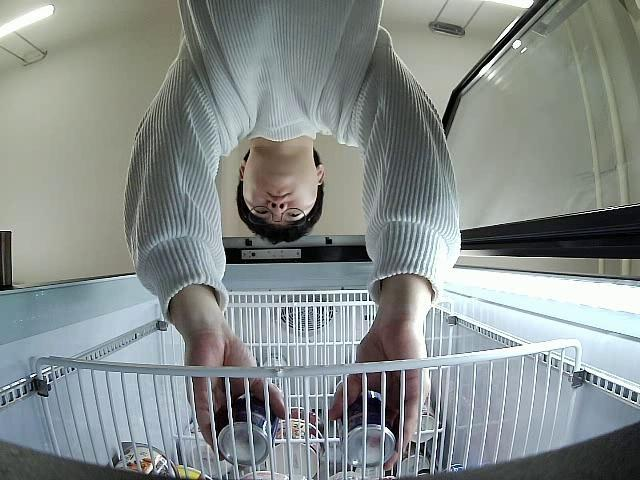16_hot6: (216, 396, 278, 466), (338, 392, 396, 465)
